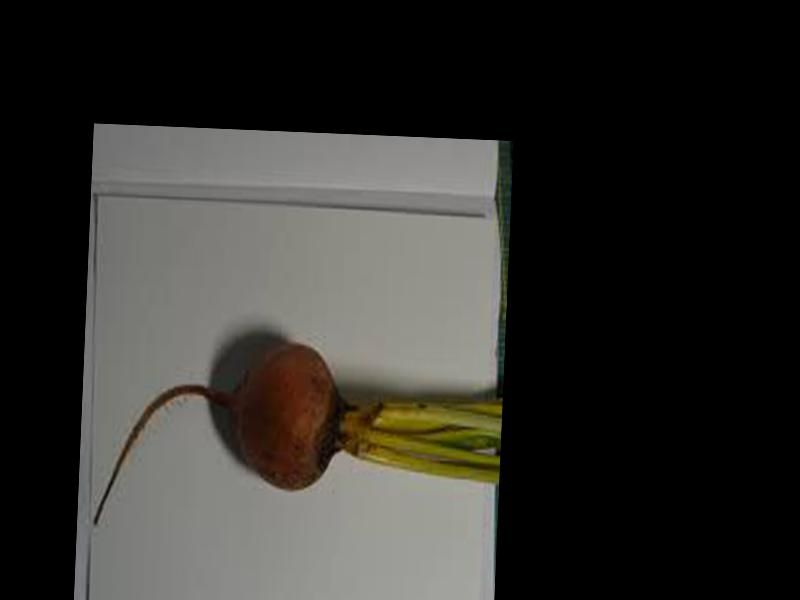Beet: (93, 336, 500, 540)
